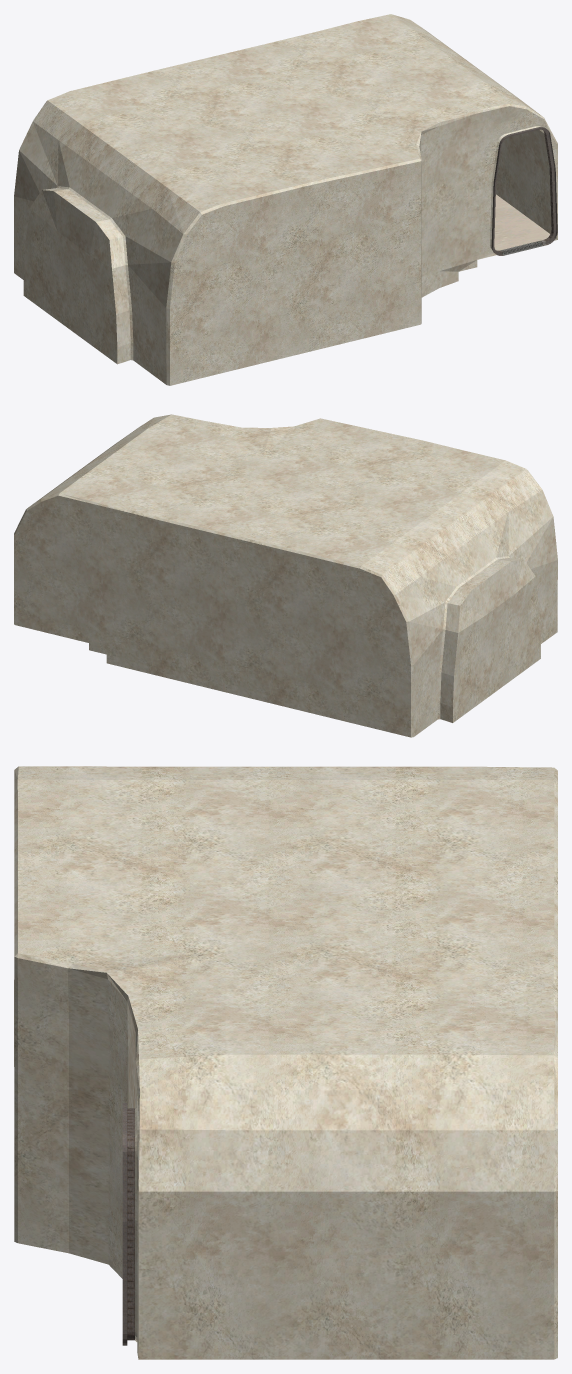
The model's file is thm_tato_house_sml_s01_fp1_r8_bedroom3_mesh_r8.fbx.
3 renders of one model, top to bottom at view 1: azimuth 30°, elevation 25°; view 2: azimuth 150°, elevation 25°; view 3: azimuth 270°, elevation 25°, orthographic. The views are drawn at different scales.
Parts seen in each view (by area): view 1: mesh_node; view 2: mesh_node; view 3: mesh_node.
Boxes of the visible parts, x1,y1,x2,y2 form: mesh_node: (14, 14, 557, 385); mesh_node: (14, 414, 557, 737); mesh_node: (14, 766, 557, 1359).
Size of the model in its own units: 12.37 by 4.52 by 7.56.
